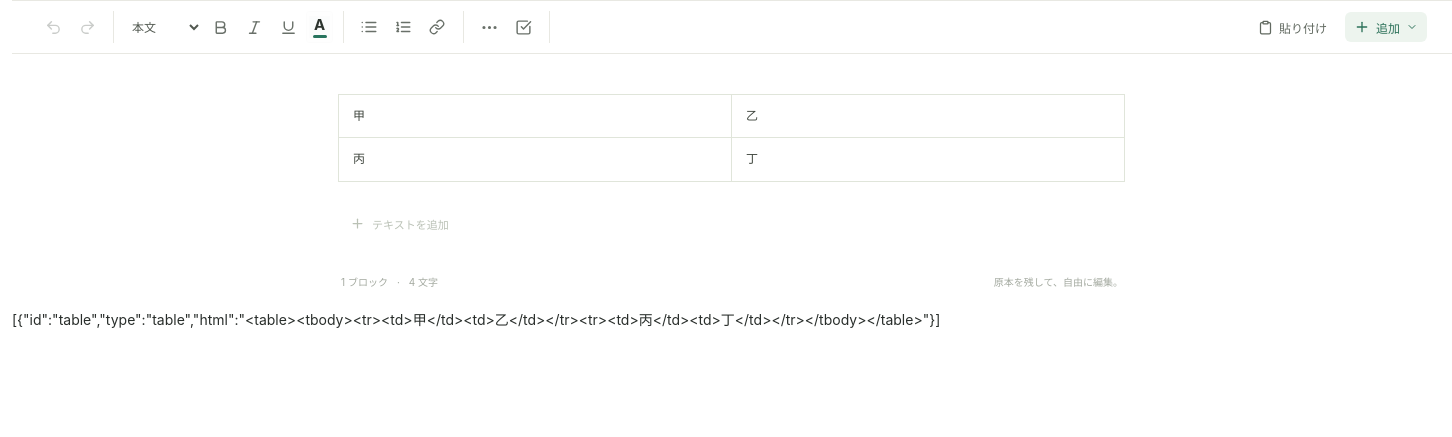
it: block editor › adds table rows at the selected cell and retains editable cell text
Focus the field named "表を編集" at (732, 134), box [338,87,1125,182]
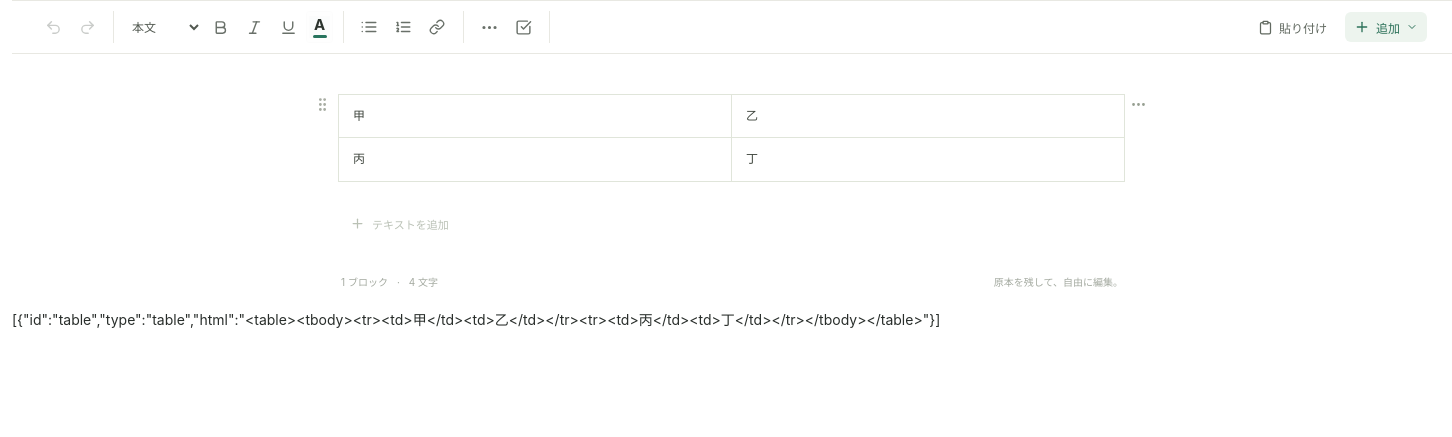
Click the button named "その他の書式" at (489, 27), box [473,11,505,43]
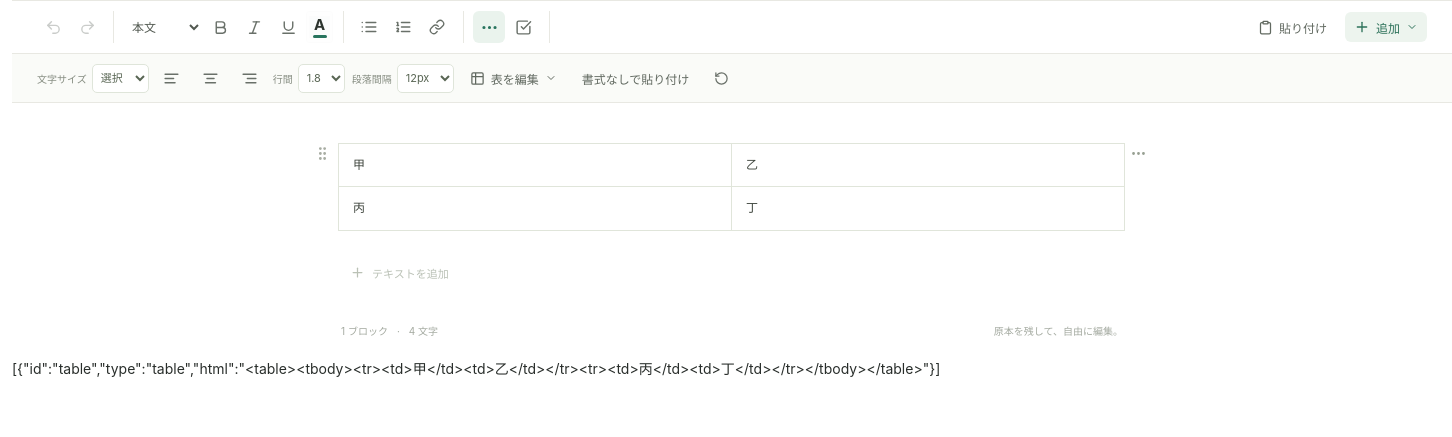
Click the button "表を編集" at (513, 78), box [461,63,566,93]
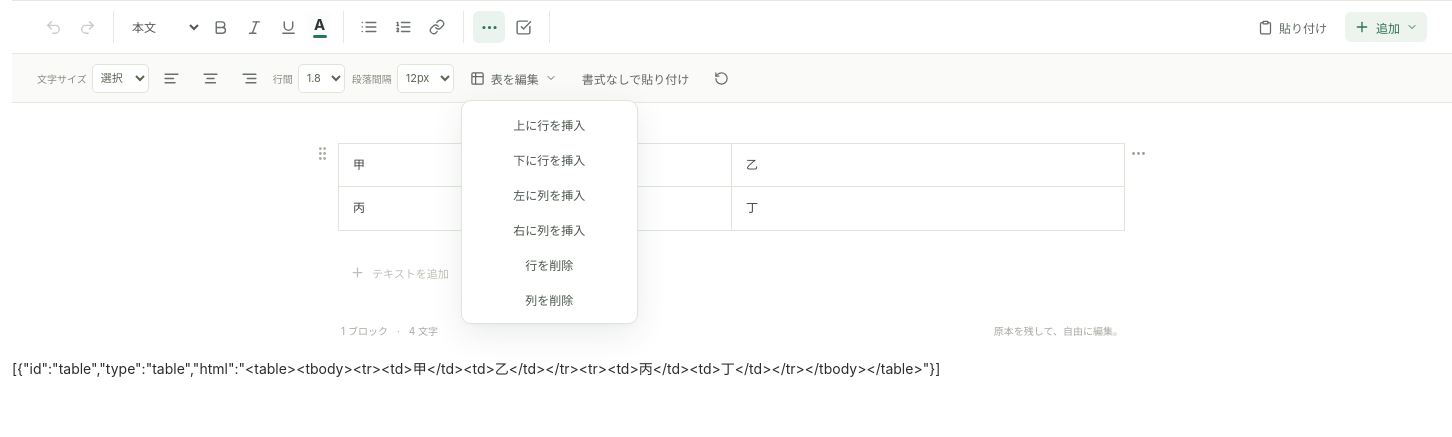
Click the button "下に行を挿入" at (549, 160), box [468,142,631,177]
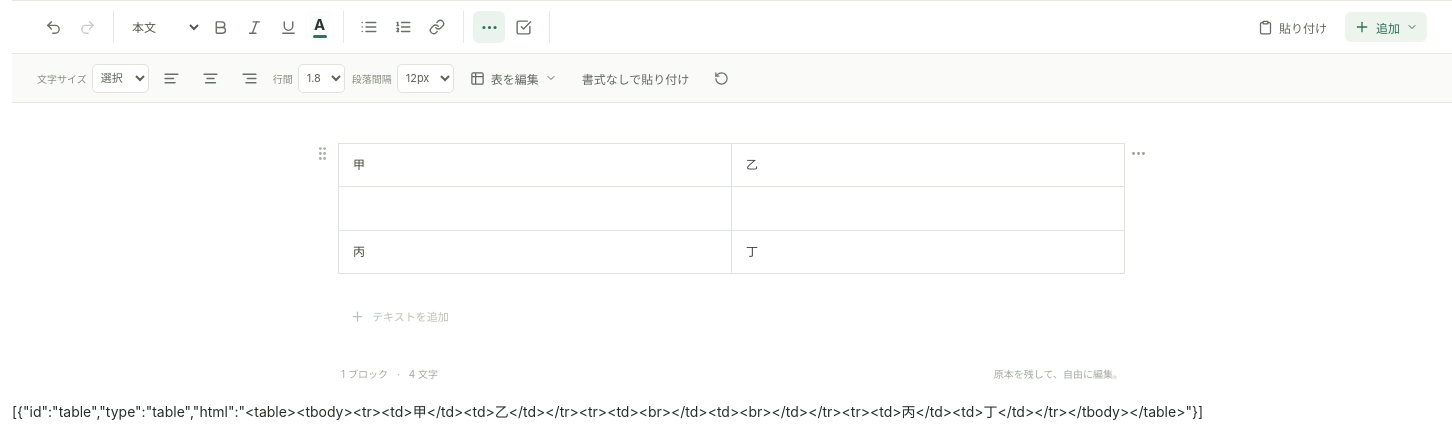
expect the number of rows is 3: met, box [338,144,1124,187]; [338,187,1124,230]; [338,230,1124,274]
